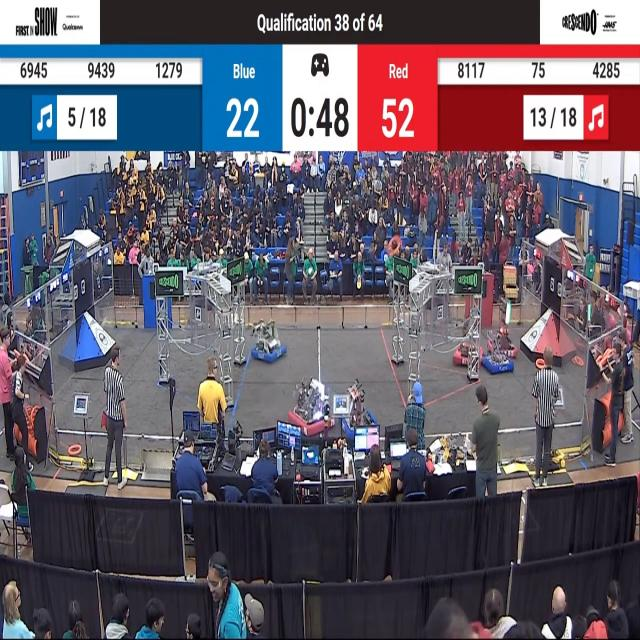Robot: (286, 361, 340, 438), (341, 367, 385, 440), (487, 296, 518, 360), (252, 318, 288, 369), (450, 312, 480, 372), (482, 318, 509, 377)
